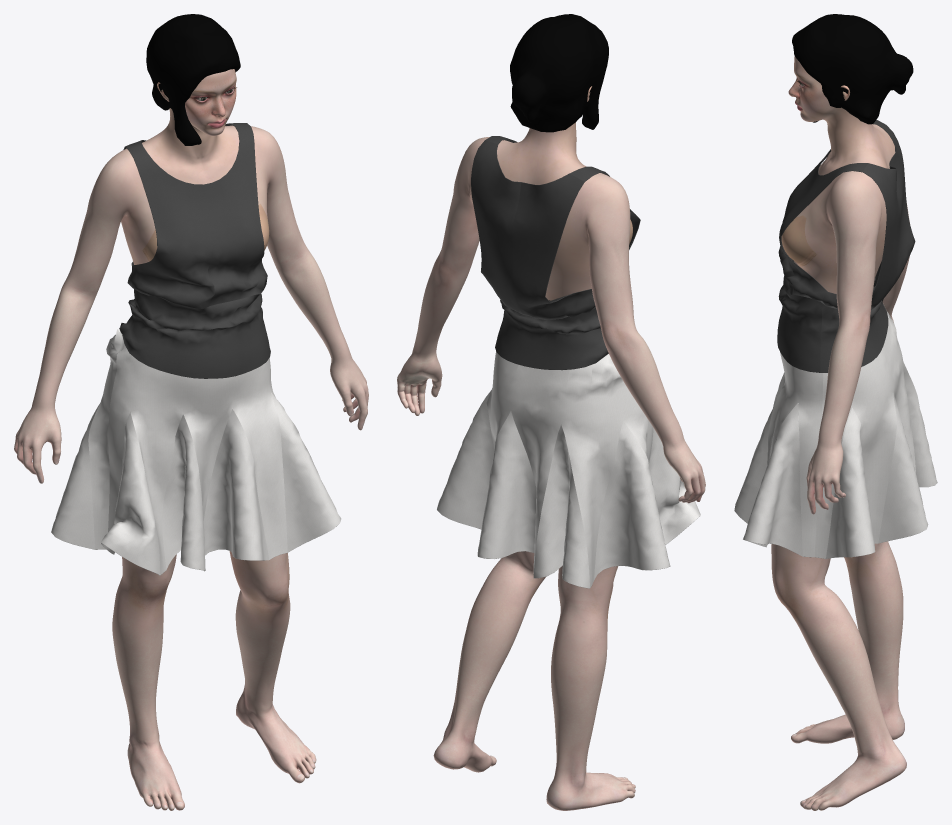
File: Custom_View_2__FV2_07.obj
The picture shows the model from 3 angles, left to right: view 1: azimuth 30°, elevation 25°; view 2: azimuth 150°, elevation 25°; view 3: azimuth 270°, elevation 25°; orthographic projection. The views are drawn at different scales.
Size of the model in its own units: 775 by 1773 by 437.
